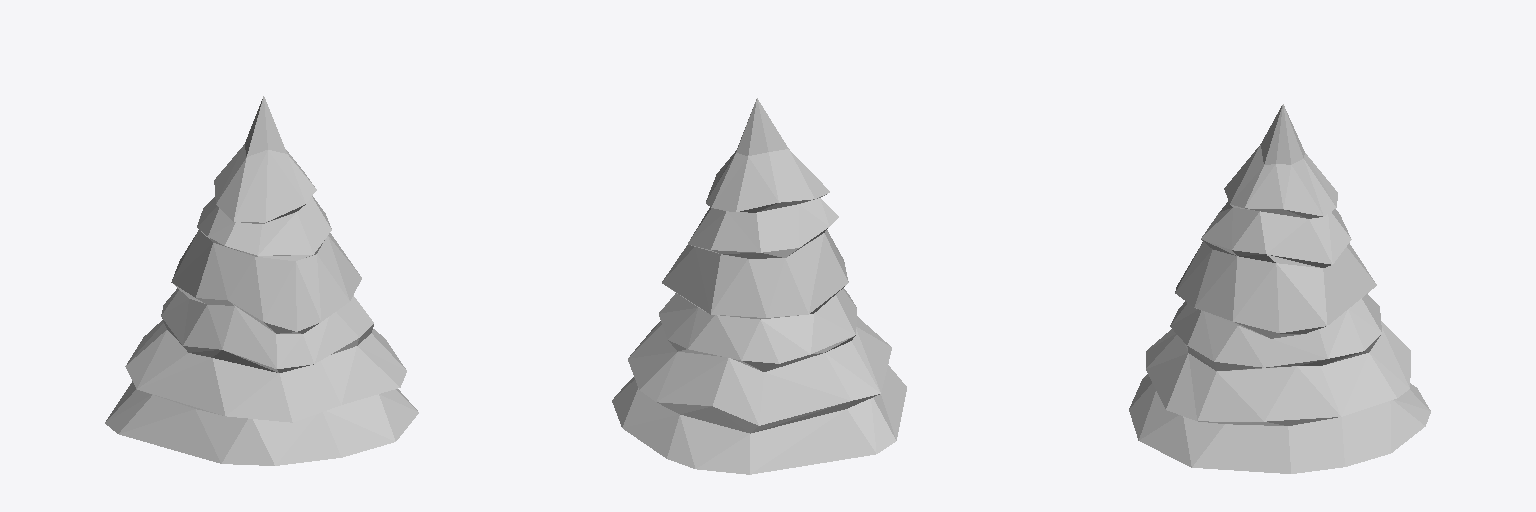
Rendered from tree_pyramidal_up.obj.
3 renders of one model, left to right at view 1: azimuth 30°, elevation 25°; view 2: azimuth 150°, elevation 25°; view 3: azimuth 270°, elevation 25°, orthographic.
Parts seen in each view (by area): view 1: leaves_Sphere; view 2: leaves_Sphere; view 3: leaves_Sphere.
Boxes of the visible parts, <box> form: leaves_Sphere: <box>105,96,418,465</box>; leaves_Sphere: <box>612,98,906,474</box>; leaves_Sphere: <box>1129,104,1430,473</box>.
Size of the model in its own units: 6.24 by 7.04 by 6.13.